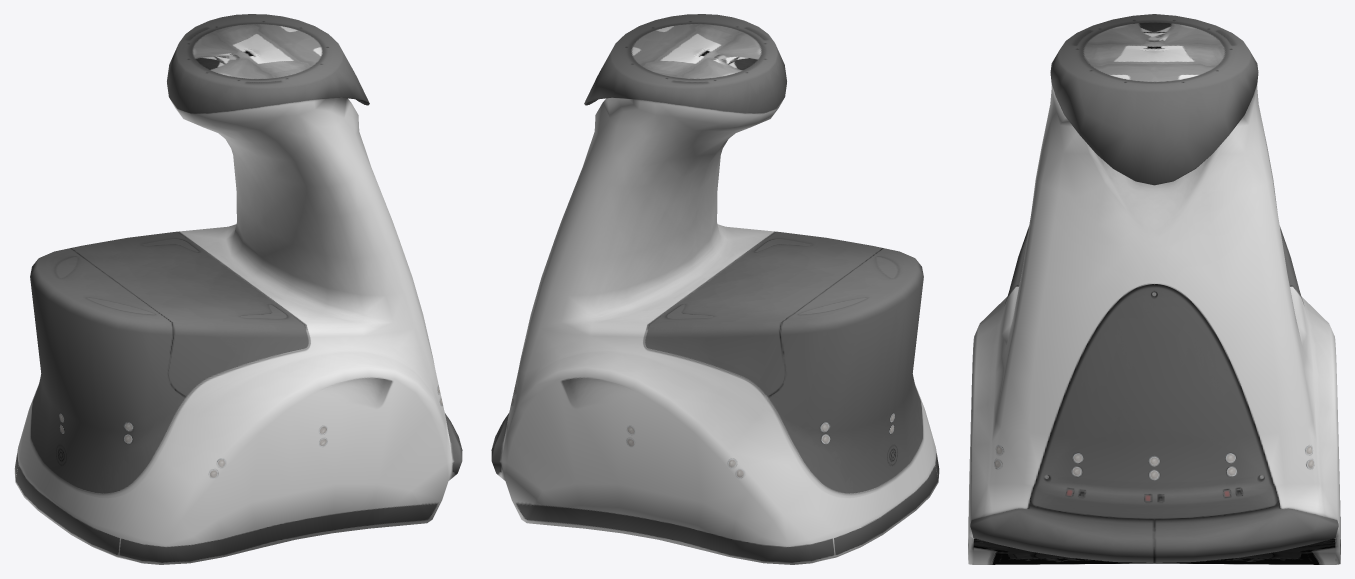
The picture shows the model from 3 angles, left to right: view 1: azimuth 30°, elevation 25°; view 2: azimuth 150°, elevation 25°; view 3: azimuth 270°, elevation 25°; orthographic projection. The views are drawn at different scales.
Visible parts, largest first — view 1: lp; view 2: lp; view 3: lp.
Part boxes in pixels (<box>): lp: <box>14,14,462,564</box>; lp: <box>491,14,939,564</box>; lp: <box>968,14,1340,564</box>.
Size of the model in its own units: 0.7521 by 0.6003 by 0.8318.
1 material, 1 textured.
